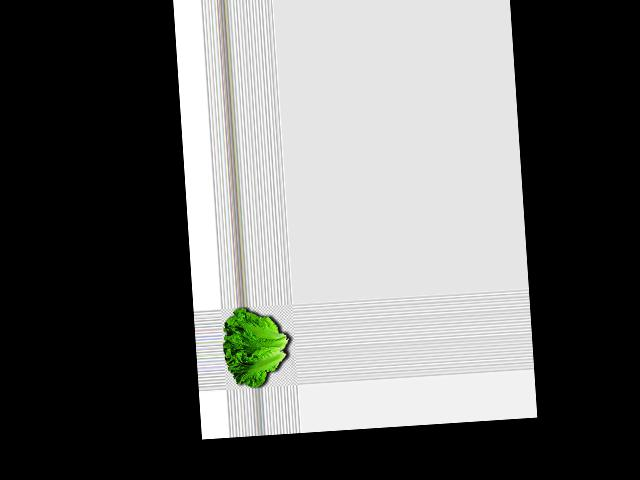lettuce: (221, 306, 293, 391)
